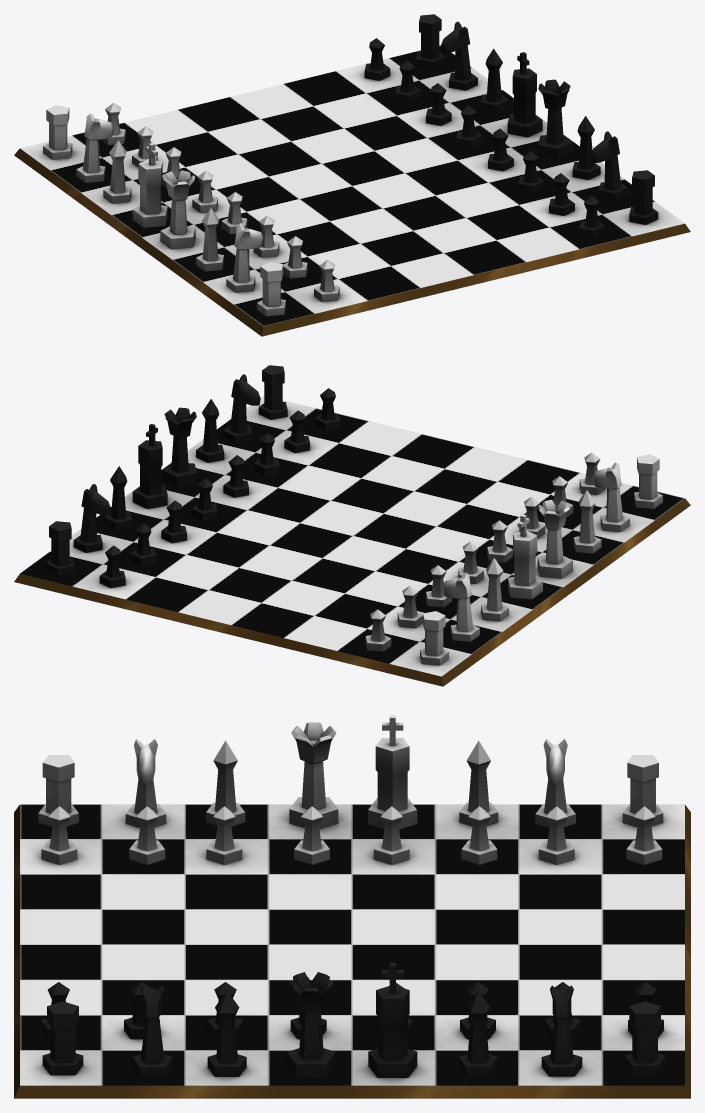
Rendered from ChessBoard.fbx.
3 views of the same model, one above another, from view 1: azimuth 30°, elevation 25°; view 2: azimuth 150°, elevation 25°; view 3: azimuth 270°, elevation 25° (orthographic). The views are drawn at different scales.
Parts seen in each view (by area): view 1: ChessBoard; view 2: ChessBoard; view 3: ChessBoard.
Part boxes in pixels (x1,y1,x2,y2): ChessBoard: (14, 14, 690, 336); ChessBoard: (14, 365, 690, 686); ChessBoard: (14, 715, 690, 1098).
Size of the model in its own units: 36 by 6.74 by 36.
